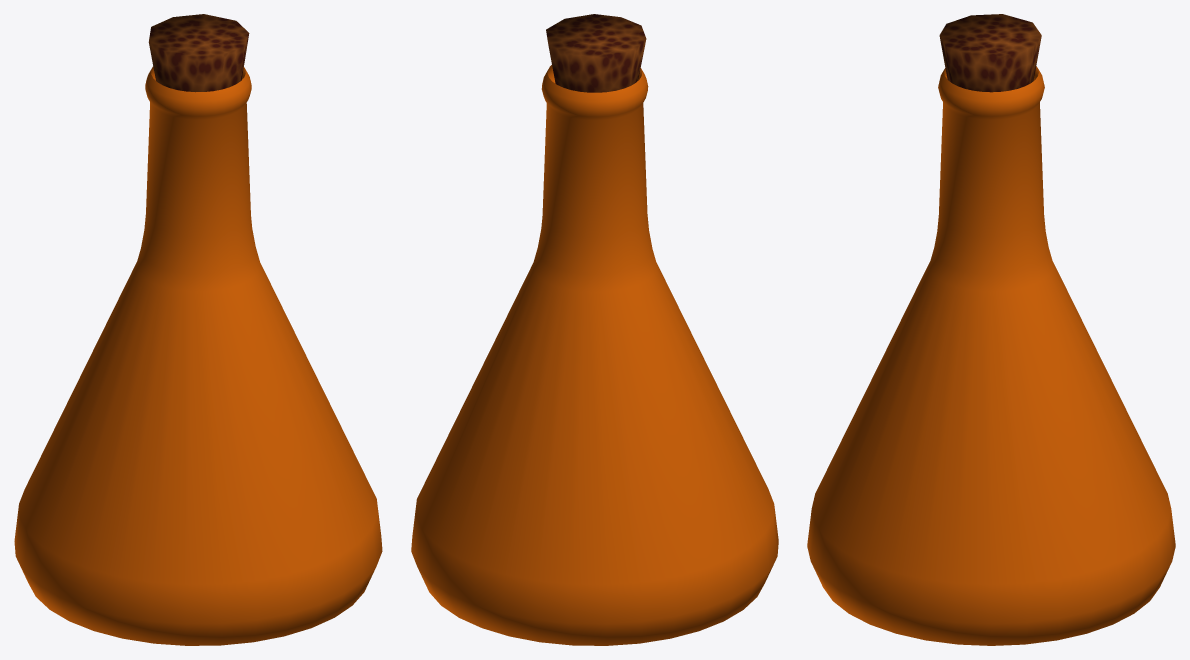
Rendered from flask.fbx.
3 renders of one model, left to right at view 1: azimuth 30°, elevation 25°; view 2: azimuth 150°, elevation 25°; view 3: azimuth 270°, elevation 25°, orthographic.
Visible parts, largest first — view 1: Flask; view 2: Flask; view 3: Flask.
Part boxes in pixels (left/top/right/bottom): Flask: left=14, top=14, right=382, bottom=645; Flask: left=411, top=14, right=778, bottom=645; Flask: left=807, top=14, right=1175, bottom=645.
Size of the model in its own units: 11.52 by 18.89 by 11.52.
